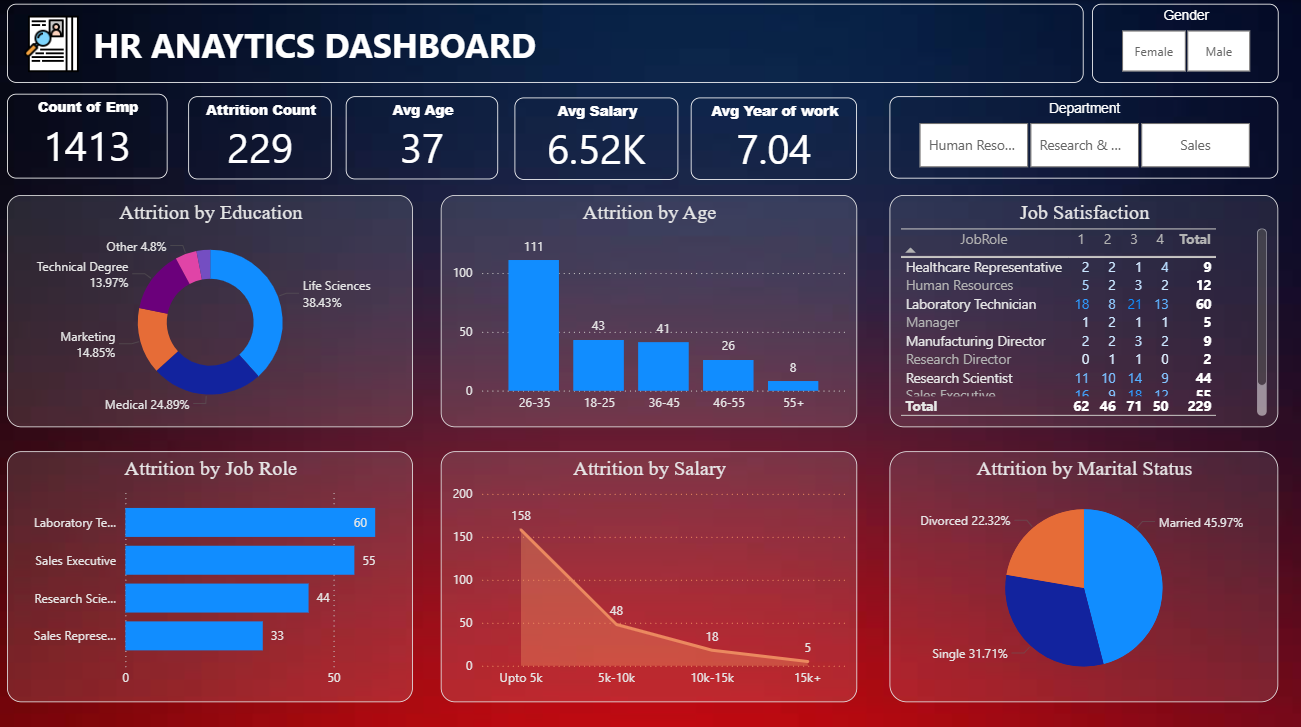

The dashboard page shown, as its layout file describes it:
{"tool":"powerbi","page":{"name":"Page 1","canvas":[1280,720],"ordinal":0},"visuals":[{"type":"card","title":"Count of Emp","fields":{"Values":["Count(HR_Analytics.EmpID)"]},"box":[9.9,91.6,157.2,82.9],"z":0},{"type":"card","title":"Attrition Count","fields":{"Values":["Sum(HR_Analytics.Attrition Column)"]},"box":[188.2,94.1,141.1,81.7],"z":1000},{"type":"card","title":"Avg Age","fields":{"Values":["Avg(HR_Analytics.Age)"]},"box":[342.9,94.1,149.8,81.7],"z":2000},{"type":"card","title":"Avg Salary","fields":{"Values":["Avg(HR_Analytics.MonthlyIncome)"]},"box":[507.5,95.3,160.9,80.5],"z":3000},{"type":"card","title":"Avg Year of work","fields":{"Values":["Avg(HR_Analytics.YearsAtCompany)"]},"box":[680.9,95.3,163.4,80.5],"z":4000},{"type":"donutChart","title":"Attrition by Education","fields":{"Category":["HR_Analytics.EducationField"],"Y":["Sum(HR_Analytics.Attrition Column)"]},"box":[9.9,191.9,398.6,227.8],"z":5000},{"type":"columnChart","title":"Attrition by Age","fields":{"Category":["HR_Analytics.AgeGroup"],"Y":["Sum(HR_Analytics.Attrition Column)"]},"box":[435.7,191.9,408.5,227.8],"z":6000},{"type":"pivotTable","title":"Job Satisfaction ","fields":{"Rows":["HR_Analytics.JobRole"],"Columns":["HR_Analytics.JobSatisfaction"],"Values":["Sum(HR_Analytics.Attrition Column)"]},"box":[876.4,191.9,381.3,227.8],"z":7000},{"type":"areaChart","title":"Attrition by Salary","fields":{"Y":["Sum(HR_Analytics.Attrition Column)"],"Category":["HR_Analytics.SalarySlab"]},"box":[435.7,443.2,408.5,246.3],"z":8000},{"type":"clusteredBarChart","title":"Attrition by Job Role","fields":{"Category":["HR_Analytics.JobRole"],"Y":["Sum(HR_Analytics.Attrition Column)"]},"box":[9.9,443.2,398.6,246.3],"z":9000},{"type":"slicer","title":"Department","fields":{"Values":["HR_Analytics.Department"]},"box":[876.4,94.1,381.3,80.5],"z":10000},{"type":"slicer","title":"Gender","fields":{"Values":["HR_Analytics.Gender"]},"box":[1074.5,3.7,183.2,78],"z":11000},{"type":"donutChart","title":"Attrition by Marital Status","fields":{"Category":["HR_Analytics.MaritalStatus"],"Y":["CountNonNull(HR_Analytics.OverTime)"]},"box":[876.4,443.2,381.3,246.3],"z":12000},{"type":"shape","box":[9.9,3.7,1057.2,78],"z":13000},{"type":"image","box":[0,13.6,108.9,59.4],"z":14000},{"type":"textbox","title":"HR ANAYTICS DASHBOARD","box":[89.1,21,550.9,45.8],"z":15000}]}

Visuals, with their boxes in screenshot pixels (x1, y1, x2, y2), scaled from the page's 1280x720 canvas onto the 1301x727 screenshot:
"Count of Emp" card: (x1=10, y1=92, x2=170, y2=176)
"Attrition Count" card: (x1=191, y1=95, x2=335, y2=178)
"Avg Age" card: (x1=349, y1=95, x2=501, y2=178)
"Avg Salary" card: (x1=516, y1=96, x2=679, y2=178)
"Avg Year of work" card: (x1=692, y1=96, x2=858, y2=178)
"Attrition by Education" donutChart: (x1=10, y1=194, x2=415, y2=424)
"Attrition by Age" columnChart: (x1=443, y1=194, x2=858, y2=424)
"Job Satisfaction " pivotTable: (x1=891, y1=194, x2=1278, y2=424)
"Attrition by Salary" areaChart: (x1=443, y1=448, x2=858, y2=696)
"Attrition by Job Role" clusteredBarChart: (x1=10, y1=448, x2=415, y2=696)
"Department" slicer: (x1=891, y1=95, x2=1278, y2=176)
"Gender" slicer: (x1=1092, y1=4, x2=1278, y2=82)
"Attrition by Marital Status" donutChart: (x1=891, y1=448, x2=1278, y2=696)
shape: (x1=10, y1=4, x2=1085, y2=82)
image: (x1=0, y1=14, x2=111, y2=74)
"HR ANAYTICS DASHBOARD" textbox: (x1=91, y1=21, x2=650, y2=67)
